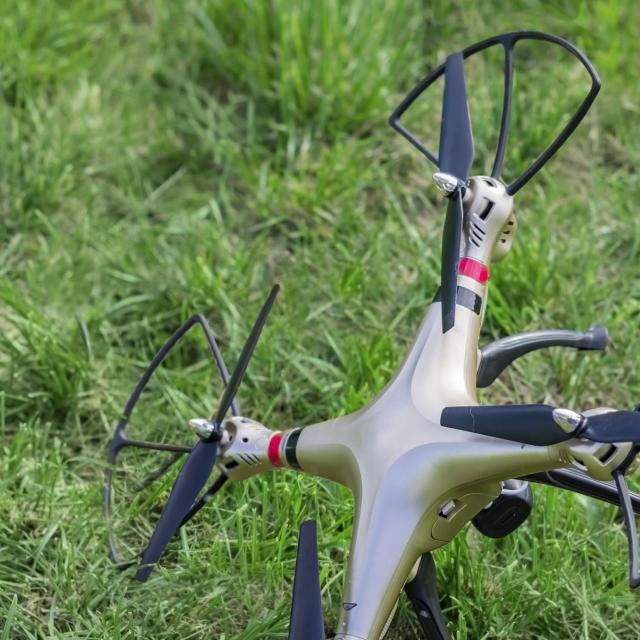drone: (102, 20, 640, 640)
